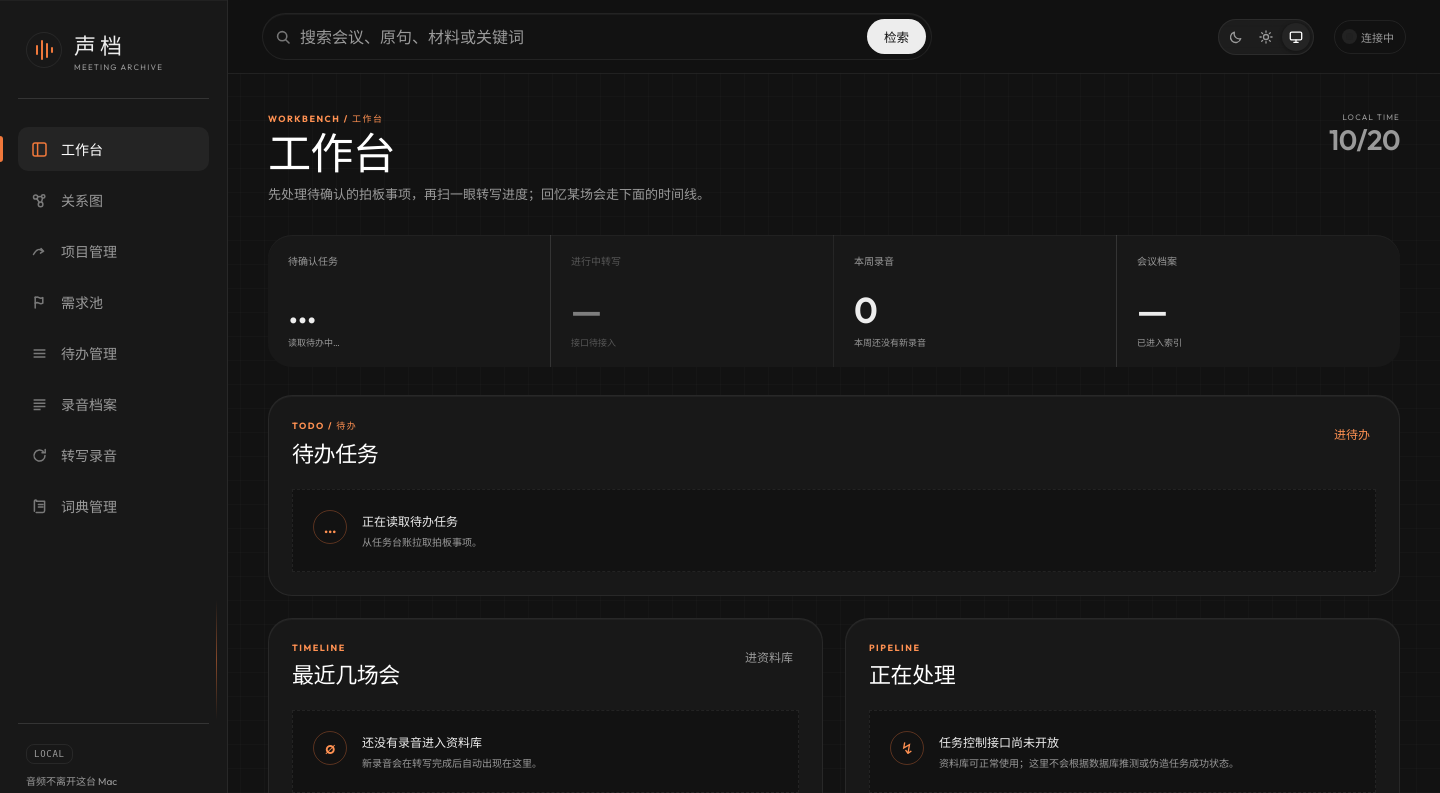
Test: App refresh and navigation safety › does not reopen search when its response arrives after navigation
Click the button "录音档案" at [114, 404], box [18,382,209,426]
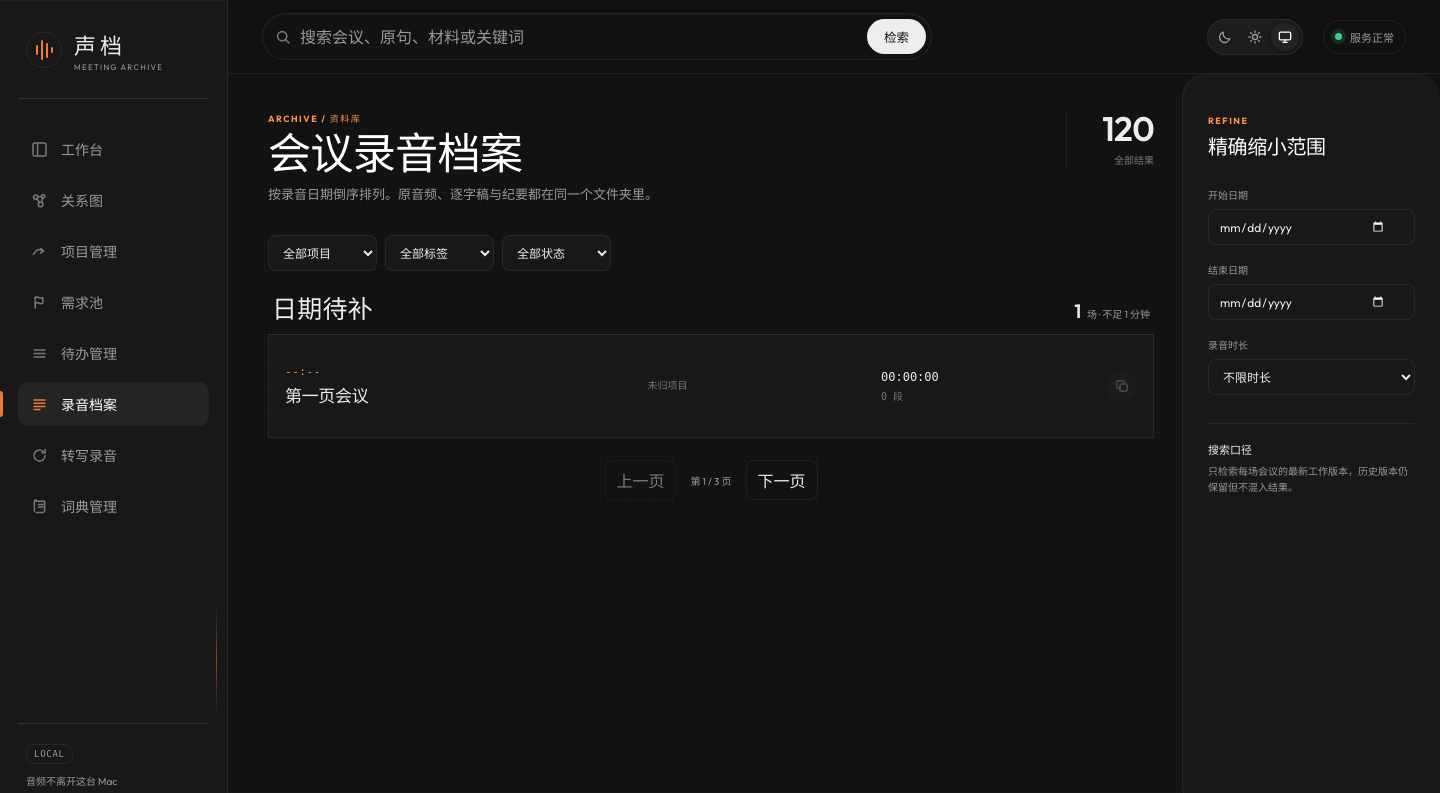
Result: the text "会议录音档案" is shown at [268,130,522,177]
Type "发布" into the field named "全局检索" at [576, 36], box [290,20,861,54]
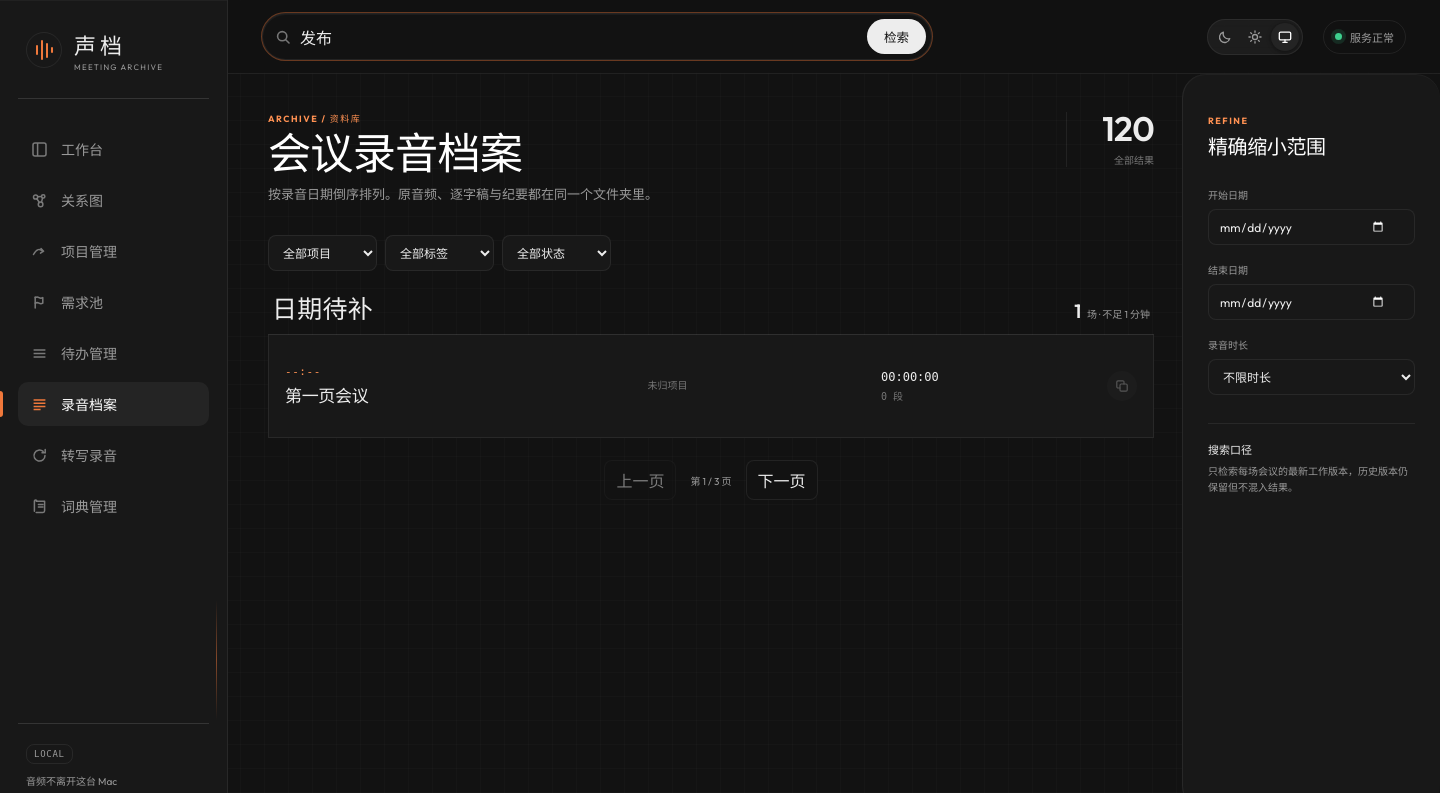
Click the button "检索" at [896, 36], box [867,19,926,54]
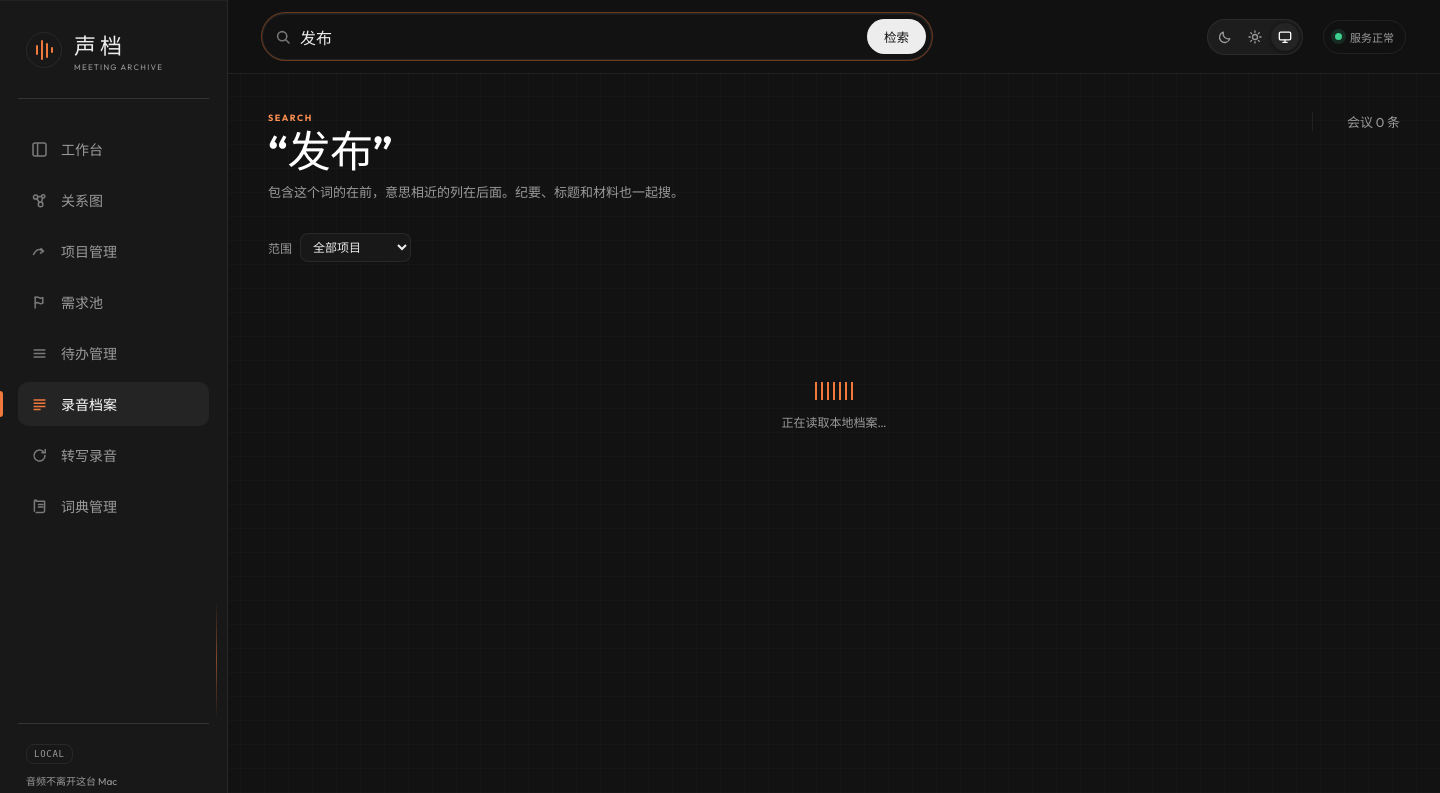
Result: the text "正在读取本地档案…" is shown at [782,413,886,430]
Click the button "项目管理" at [114, 251], box [18,229,209,273]
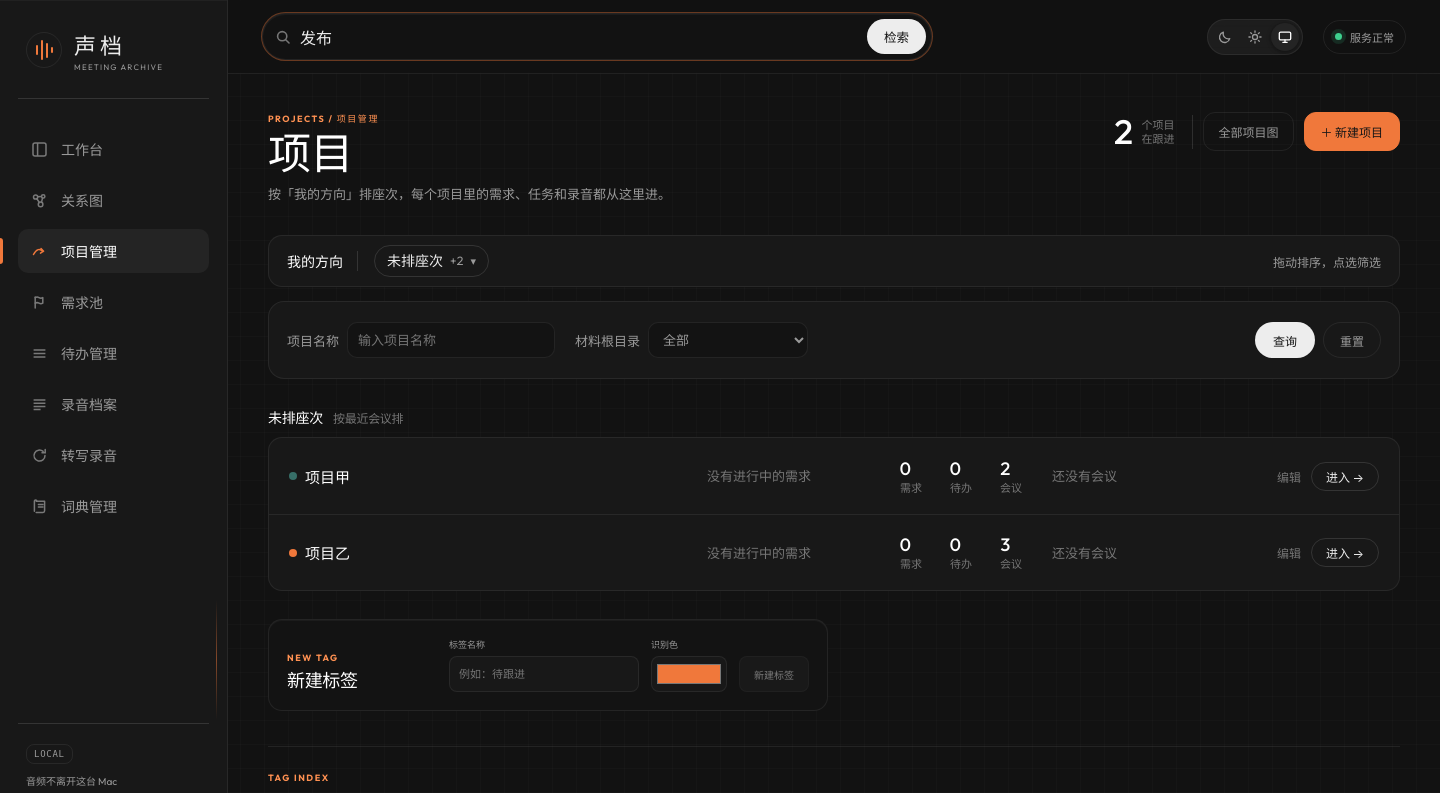
Result: the heading "项目" is shown at [268,126,353,180]
Result: the heading "“发布”" is gone
